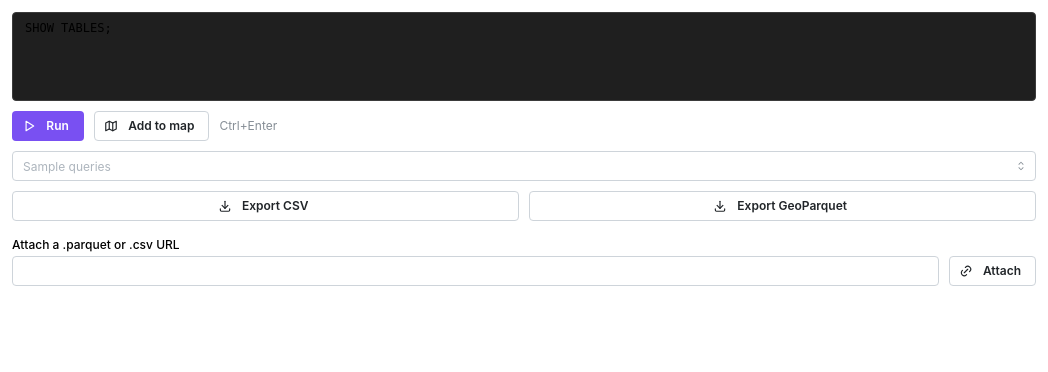
SqlWorkspaceTab › shows the error message on a failed query
Replace the text in the text box with test id "sql-editor" with "BADSQL": (524, 56) [12,12,1036,101]
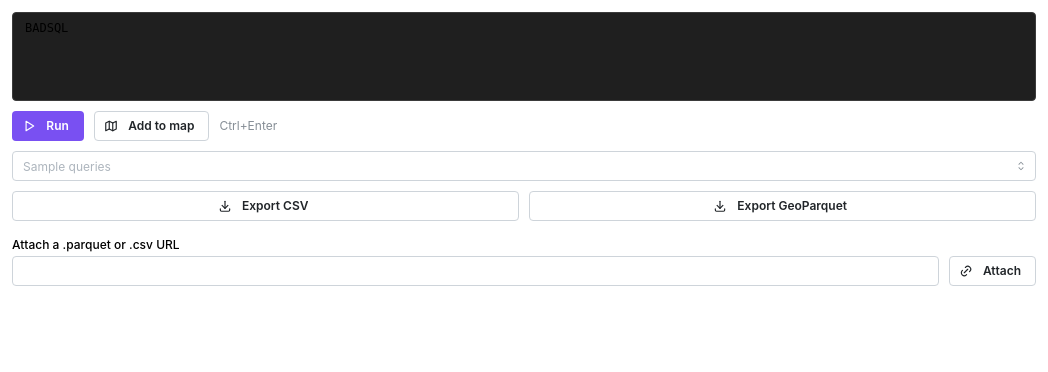
Click the button with test id "sql-run": click(48, 126) [12,111,84,141]
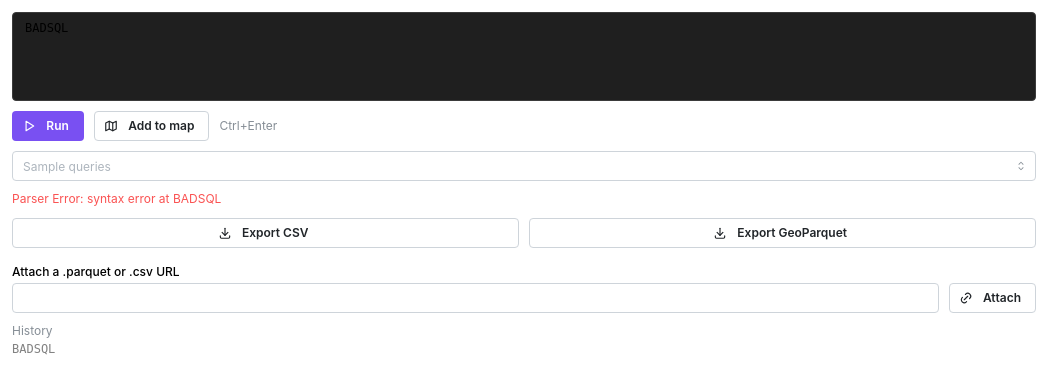
Expected: the text with test id "sql-error" reads "Parser Error: syntax error at BADSQL", [12,191,221,206]
